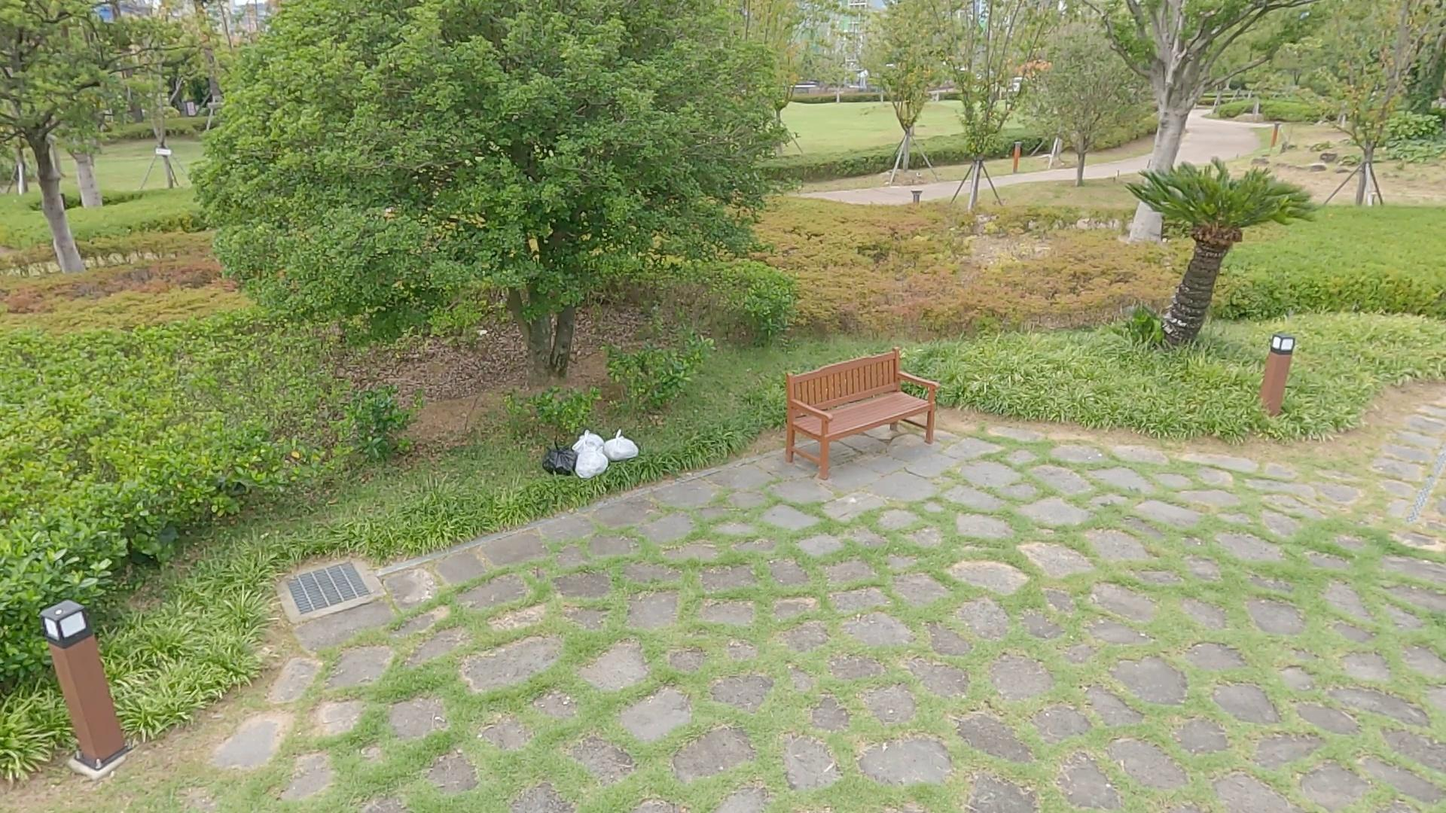trash: (541, 440, 579, 477), (600, 428, 637, 459), (573, 424, 607, 457), (576, 446, 609, 478)
